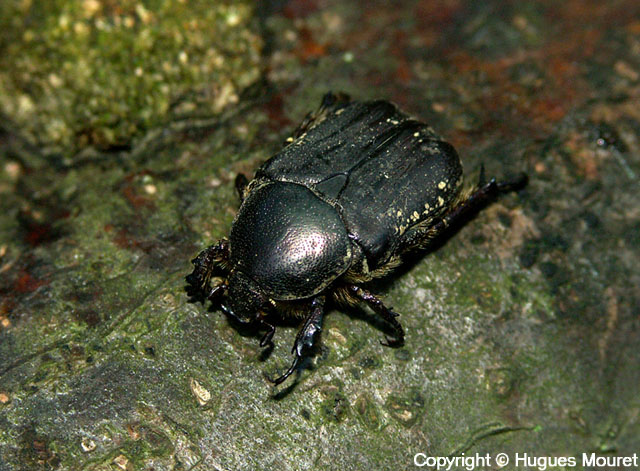Protaetia_oblonga: (190, 92, 533, 384)
